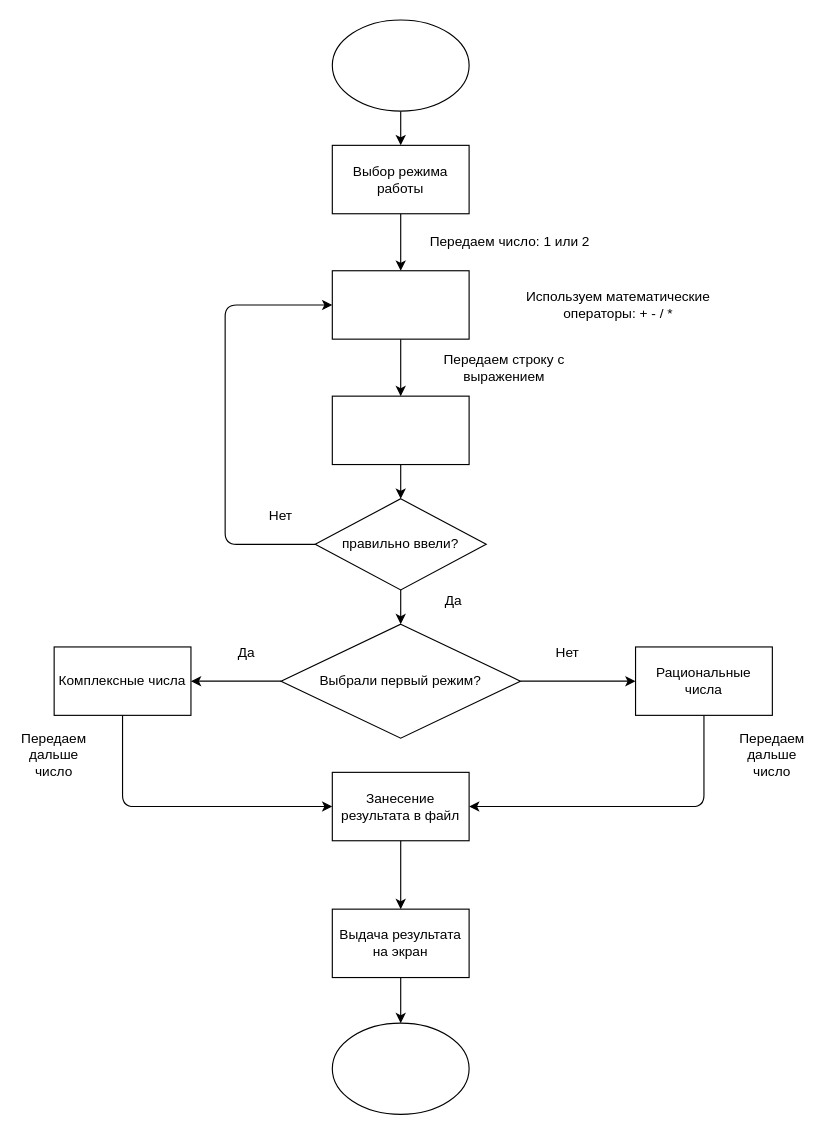
Some shapes in this 825 by 1134 pixel diagram are drawn without their labels. The shapes that lost their labels are listed below. From the top down, each one's centre as x and y in pixels, then its label:
At point (400, 65): "Старт".
At point (400, 304): "Ввод выражения.".
At point (400, 430): "Проверка на правильность ввода".
At point (400, 1068): "Конец".
